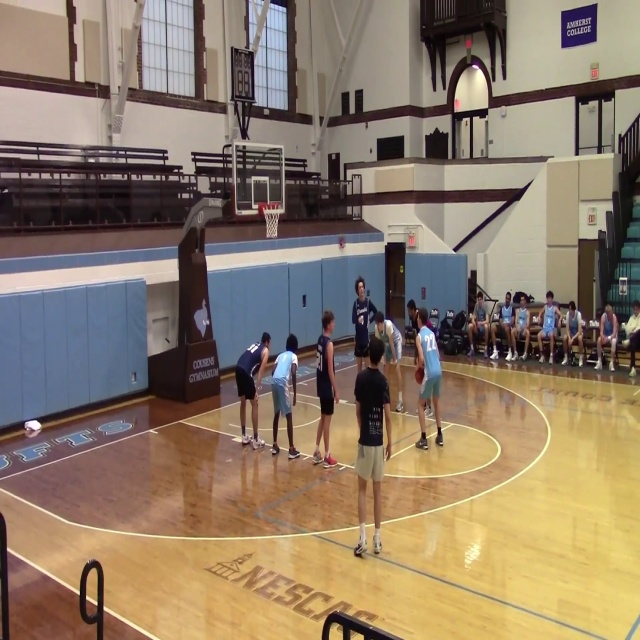Basketball: (24, 420, 42, 437), (414, 367, 424, 384)
